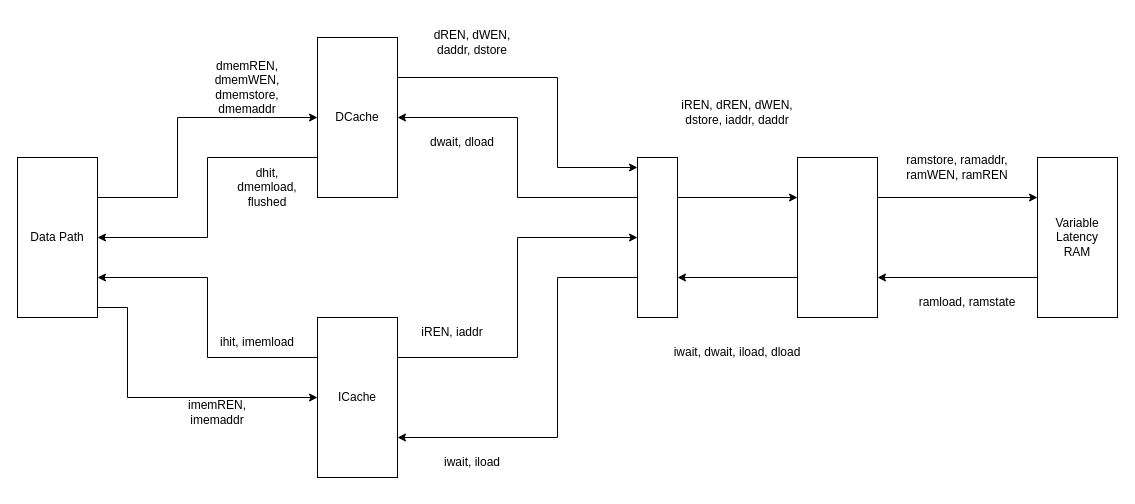
Image size: 1135x504. Some labels were removed from this diagram. The box of each missing label's shape, as (x1, y1, x2, y2) in pixels:
cache_control_if: (636, 156, 678, 318)
Memory Control: (796, 156, 878, 318)
